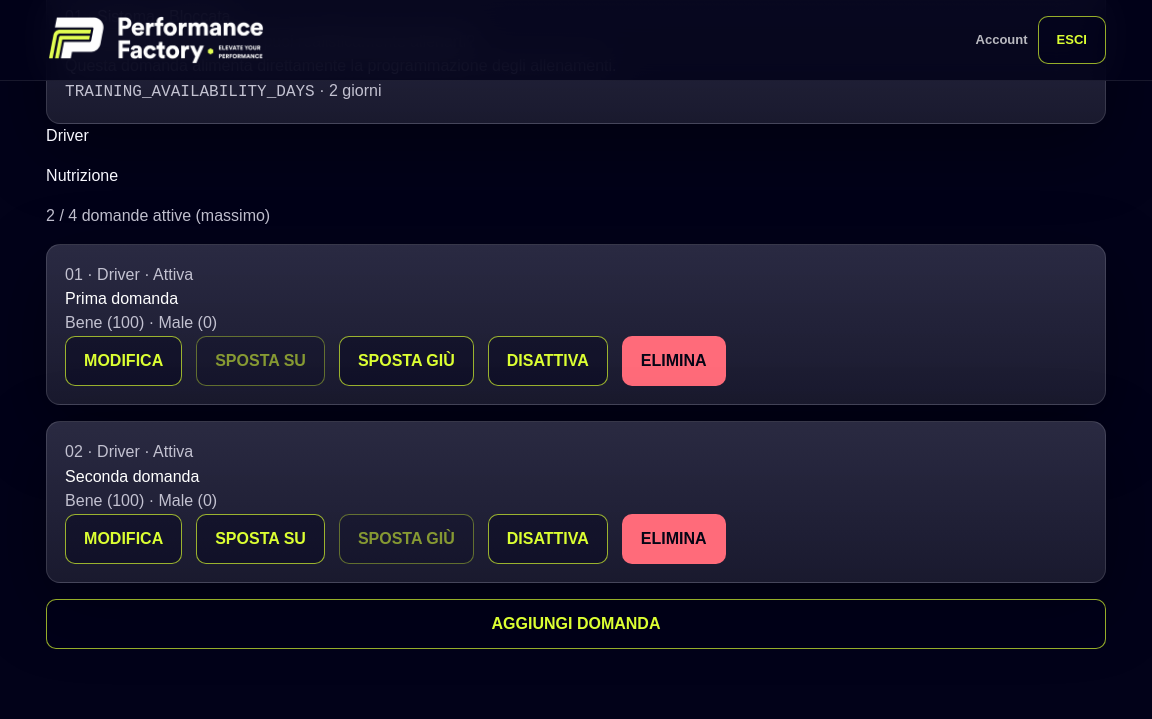
Test: Admin assessment editor › explains why a driver question cannot be deactivated
(page scrolled)
Click the button named "Disattiva Prima domanda" at (548,361), box top-left (488, 336), bottom-right (608, 386)
(page scrolled)
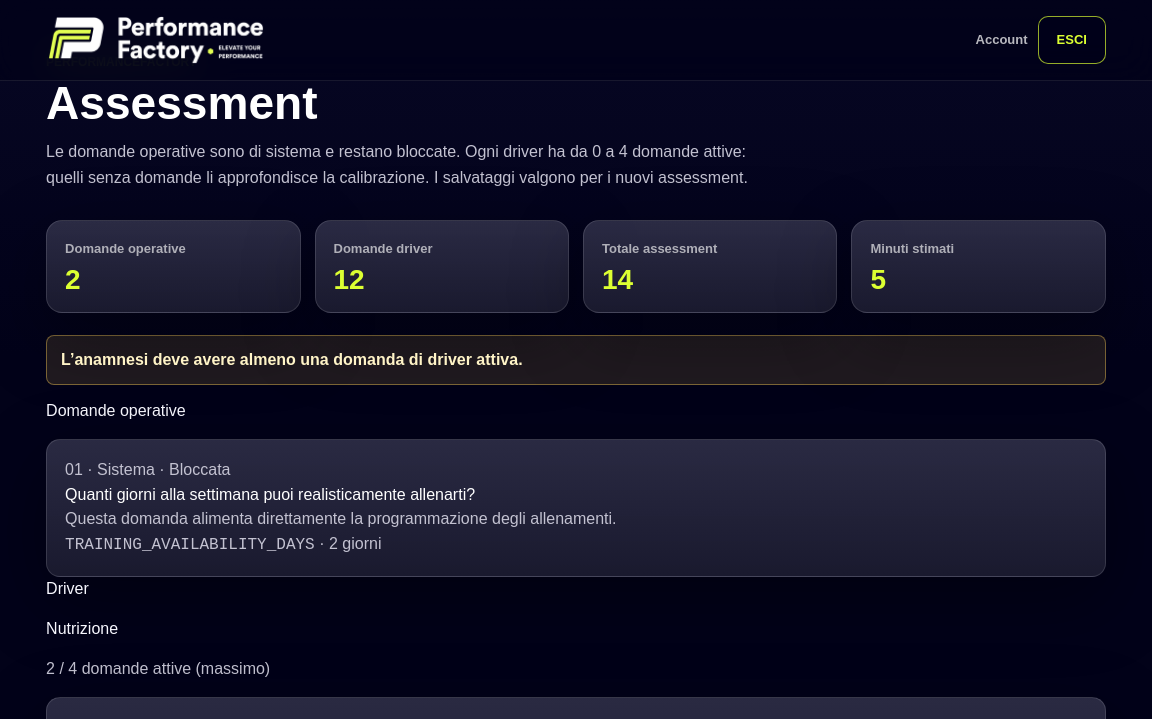
expect the text "L’anamnesi deve avere almeno una domanda di driver attiva." is shown: met, box top-left (46, 335), bottom-right (1106, 385)
